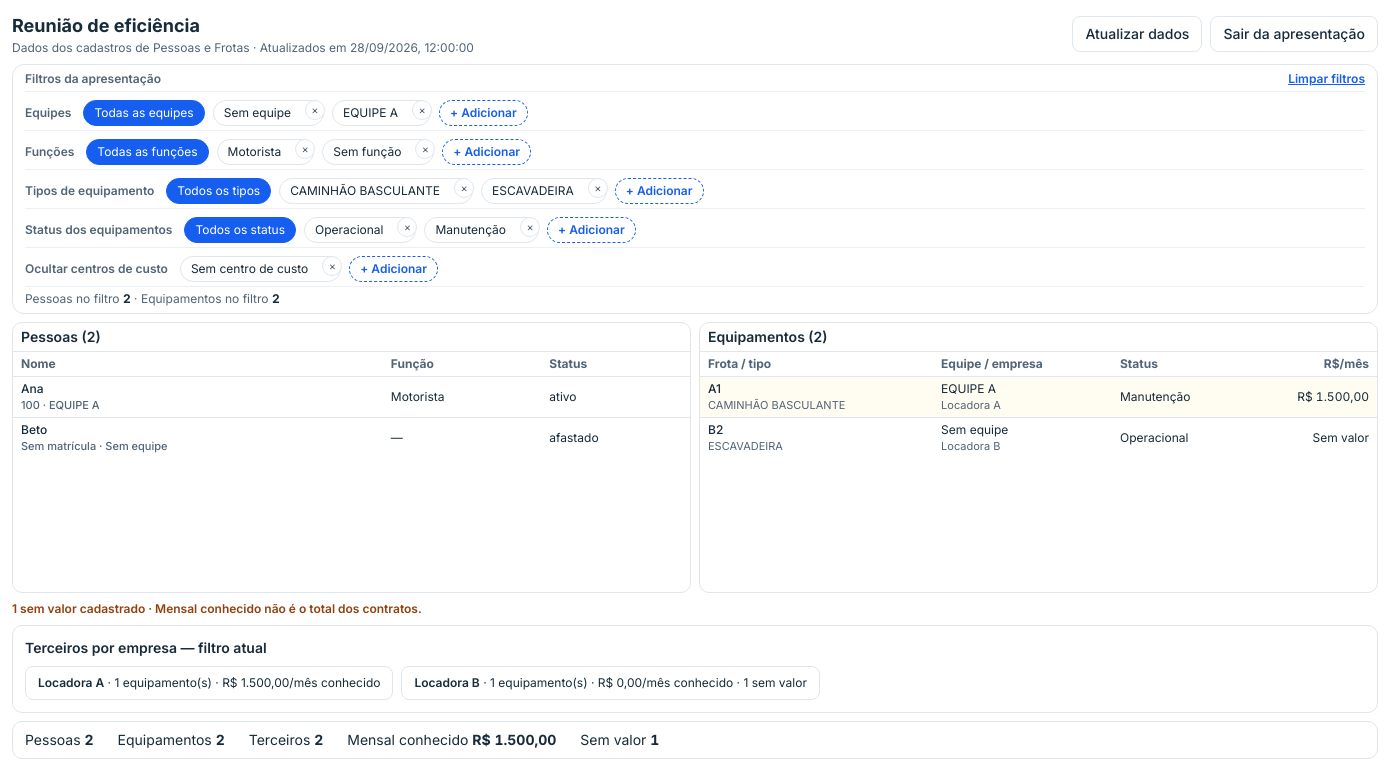
tela de reunião › filters equipes fleet by status chips without ever offering returned equipment
Click the button with aria-label "Selecionar status Manutenção": (472, 230) [426,218,518,242]
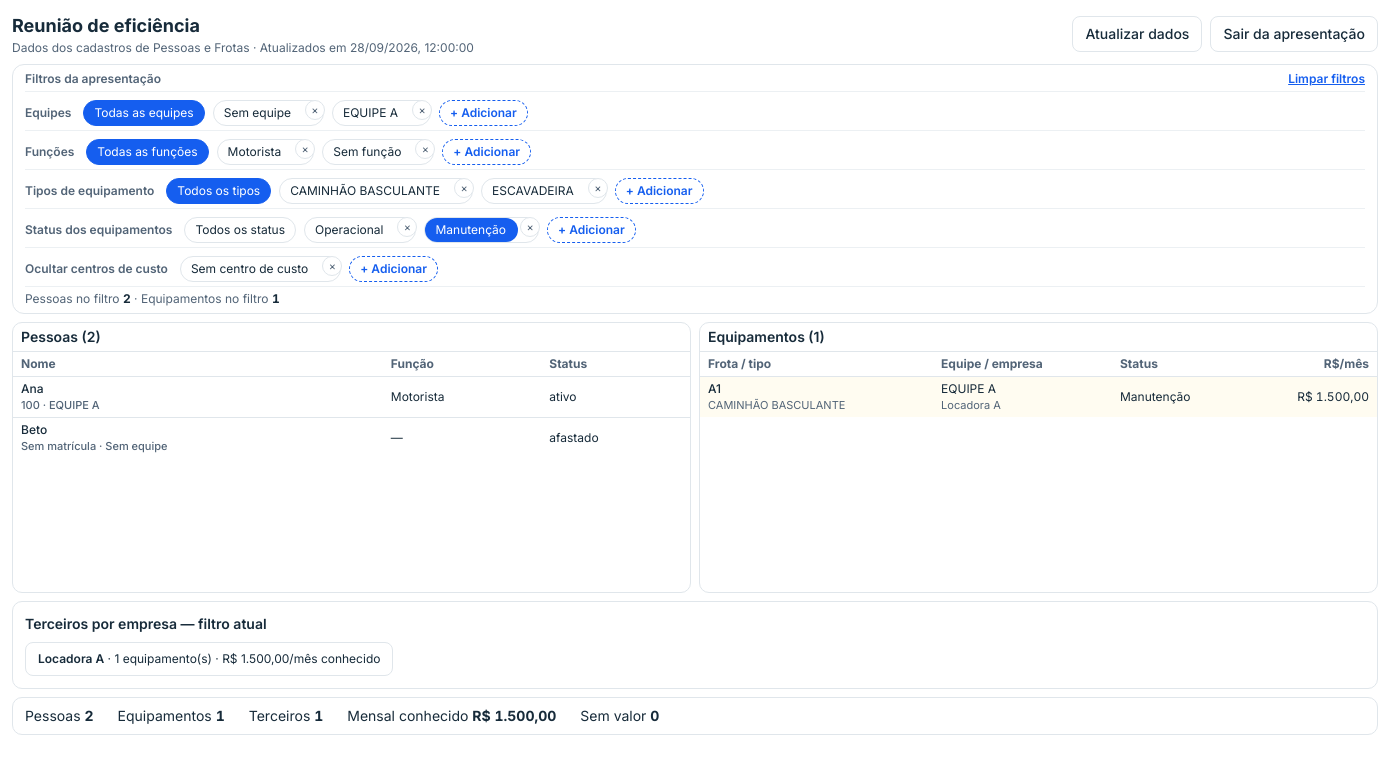
Expected: the text "A1" is shown, [708,381,721,396]
Now the text "B2" is gone
Now the button with aria-label "Retirar status Manutenção" is shown, box [426,218,518,242]
Click the button "Todos os status": (240, 230) [184,217,296,243]
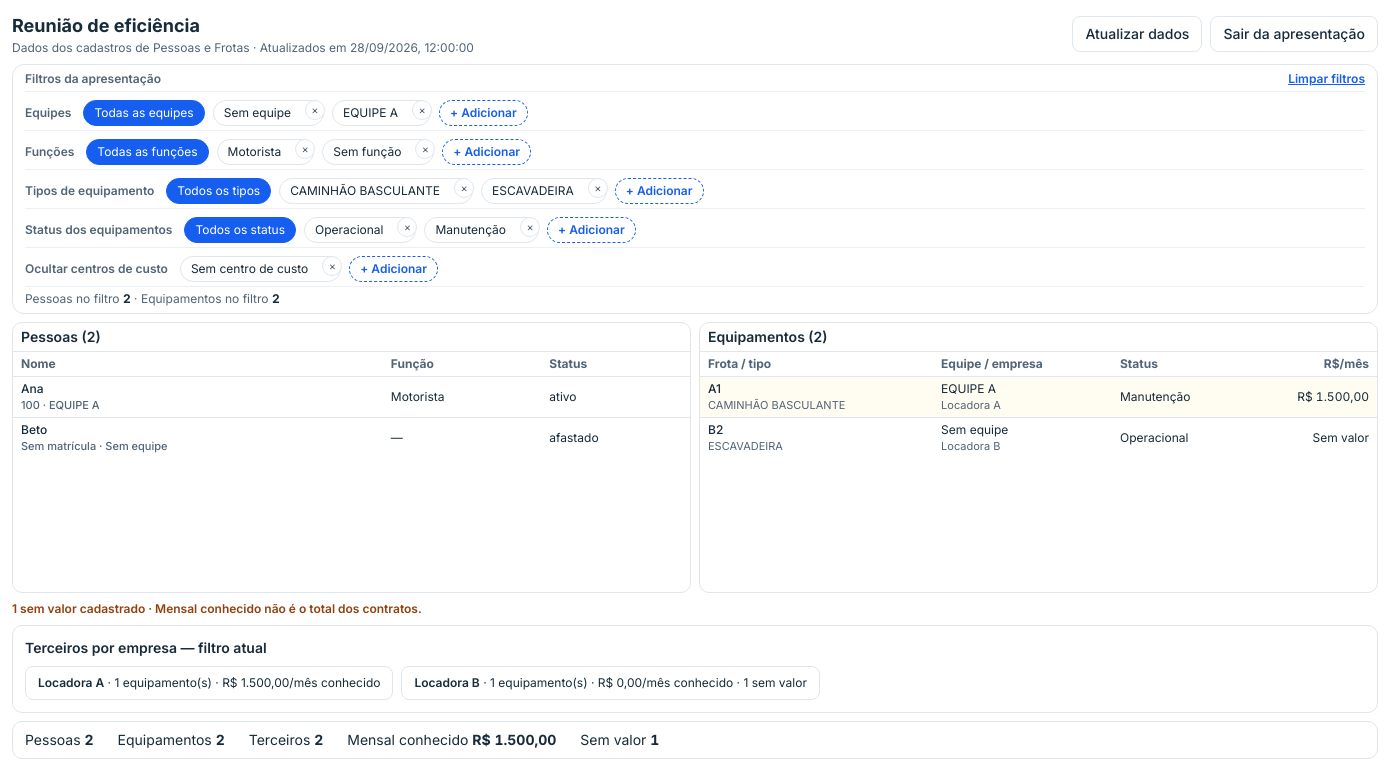
Now the text "B2" is shown, box [708,422,723,437]
